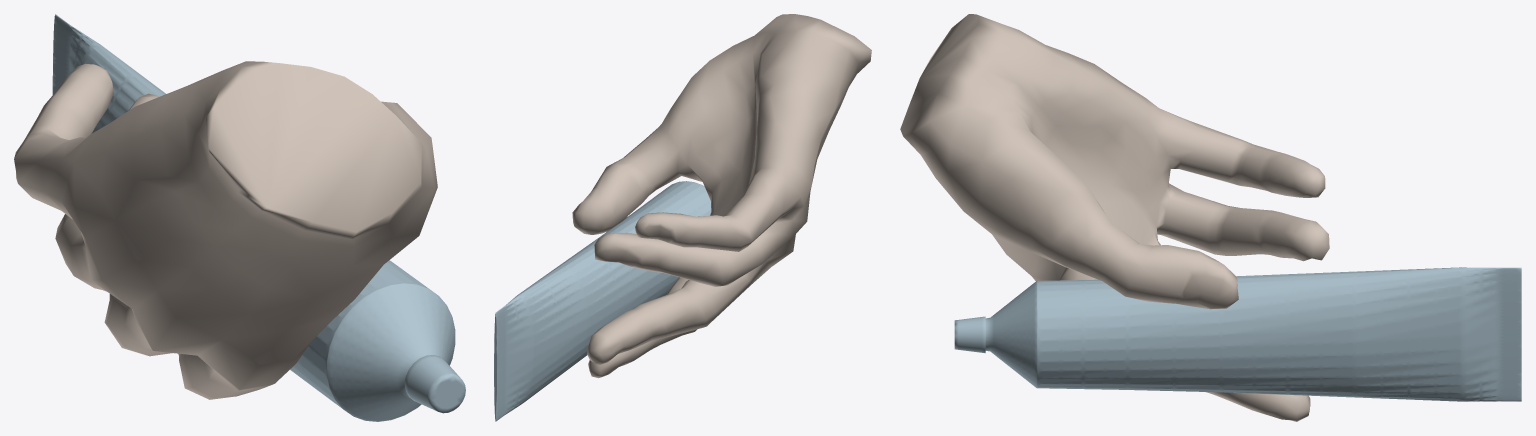
Rendered from ours_1.glb.
3 renders of one model, left to right at view 1: azimuth 30°, elevation 25°; view 2: azimuth 150°, elevation 25°; view 3: azimuth 270°, elevation 25°, orthographic. The views are drawn at different scales.
Bounding box in the file's own units: 0.0997 × 0.1369 × 0.2214.
